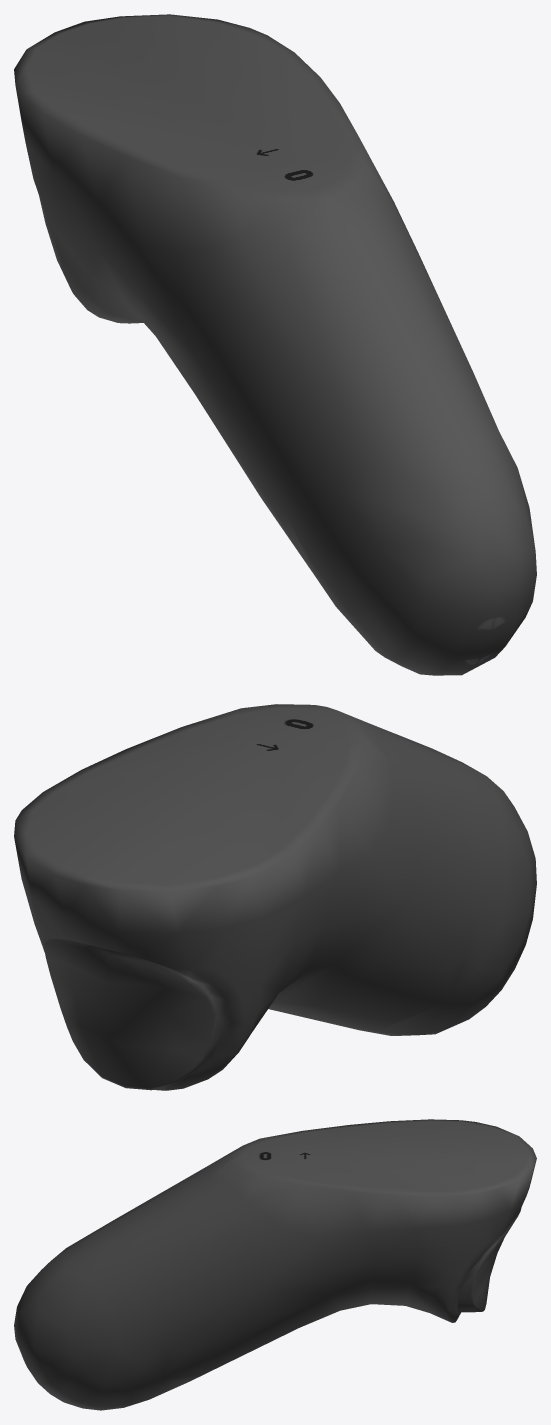
The model's file is pacific_lp.gltf.
3 renders of one model, top to bottom at view 1: azimuth 30°, elevation 25°; view 2: azimuth 150°, elevation 25°; view 3: azimuth 270°, elevation 25°, orthographic. The views are drawn at different scales.
Parts seen in each view (by area): view 1: Mesh; view 2: Mesh; view 3: Mesh.
Part boxes in pixels (x1,y1,x2,y2): Mesh: (14,14,536,675); Mesh: (14,704,536,1090); Mesh: (14,1119,536,1410).
Size of the model in its own units: 0.0419 by 0.0631 by 0.1193.
1 material, 1 textured.
